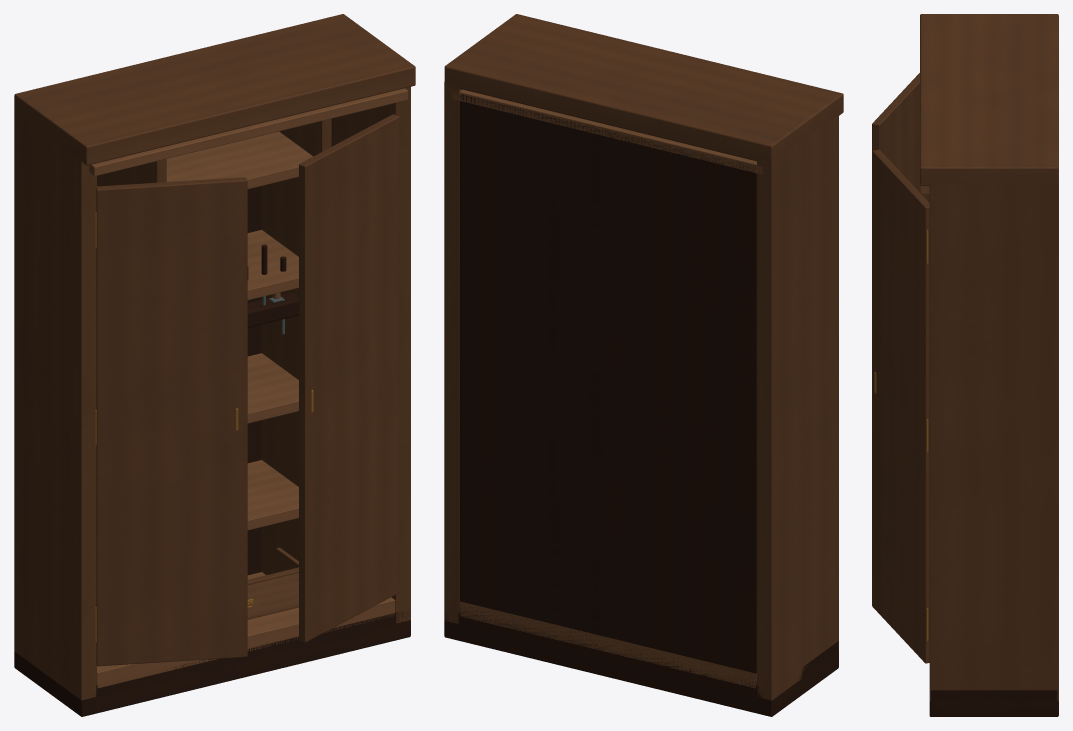
File: asset.glb
The picture shows the model from 3 angles, left to right: view 1: azimuth 30°, elevation 25°; view 2: azimuth 150°, elevation 25°; view 3: azimuth 270°, elevation 25°; orthographic projection. The views are drawn at different scales.
Visible parts, largest first — view 1: MaterialBatch_Room_furniture_quarter-sawn_oak, MaterialBatch_Room_furniture_light_oak, MaterialBatch_Room_furniture_smoked_walnut; view 2: MaterialBatch_Room_furniture_smoked_walnut, MaterialBatch_Room_furniture_quarter-sawn_oak, MaterialBatch_Room_furniture_light_oak; view 3: MaterialBatch_Room_furniture_quarter-sawn_oak, MaterialBatch_Room_furniture_smoked_walnut, MaterialBatch_Room_furniture_aged_brass.
Boxes of the visible parts, <box> form: MaterialBatch_Room_furniture_quarter-sawn_oak: <box>14,14,415,700</box>; MaterialBatch_Room_furniture_light_oak: <box>89,88,407,688</box>; MaterialBatch_Room_furniture_smoked_walnut: <box>14,118,410,716</box>; MaterialBatch_Room_furniture_smoked_walnut: <box>444,95,838,716</box>; MaterialBatch_Room_furniture_quarter-sawn_oak: <box>444,14,843,700</box>; MaterialBatch_Room_furniture_light_oak: <box>452,89,763,688</box>; MaterialBatch_Room_furniture_quarter-sawn_oak: <box>872,14,1058,701</box>; MaterialBatch_Room_furniture_smoked_walnut: <box>929,690,1058,716</box>; MaterialBatch_Room_furniture_aged_brass: <box>874,230,928,641</box>.
Bounding box in the file's own units: 42 × 69.9 × 21.51.
5 materials, 5 textured.
